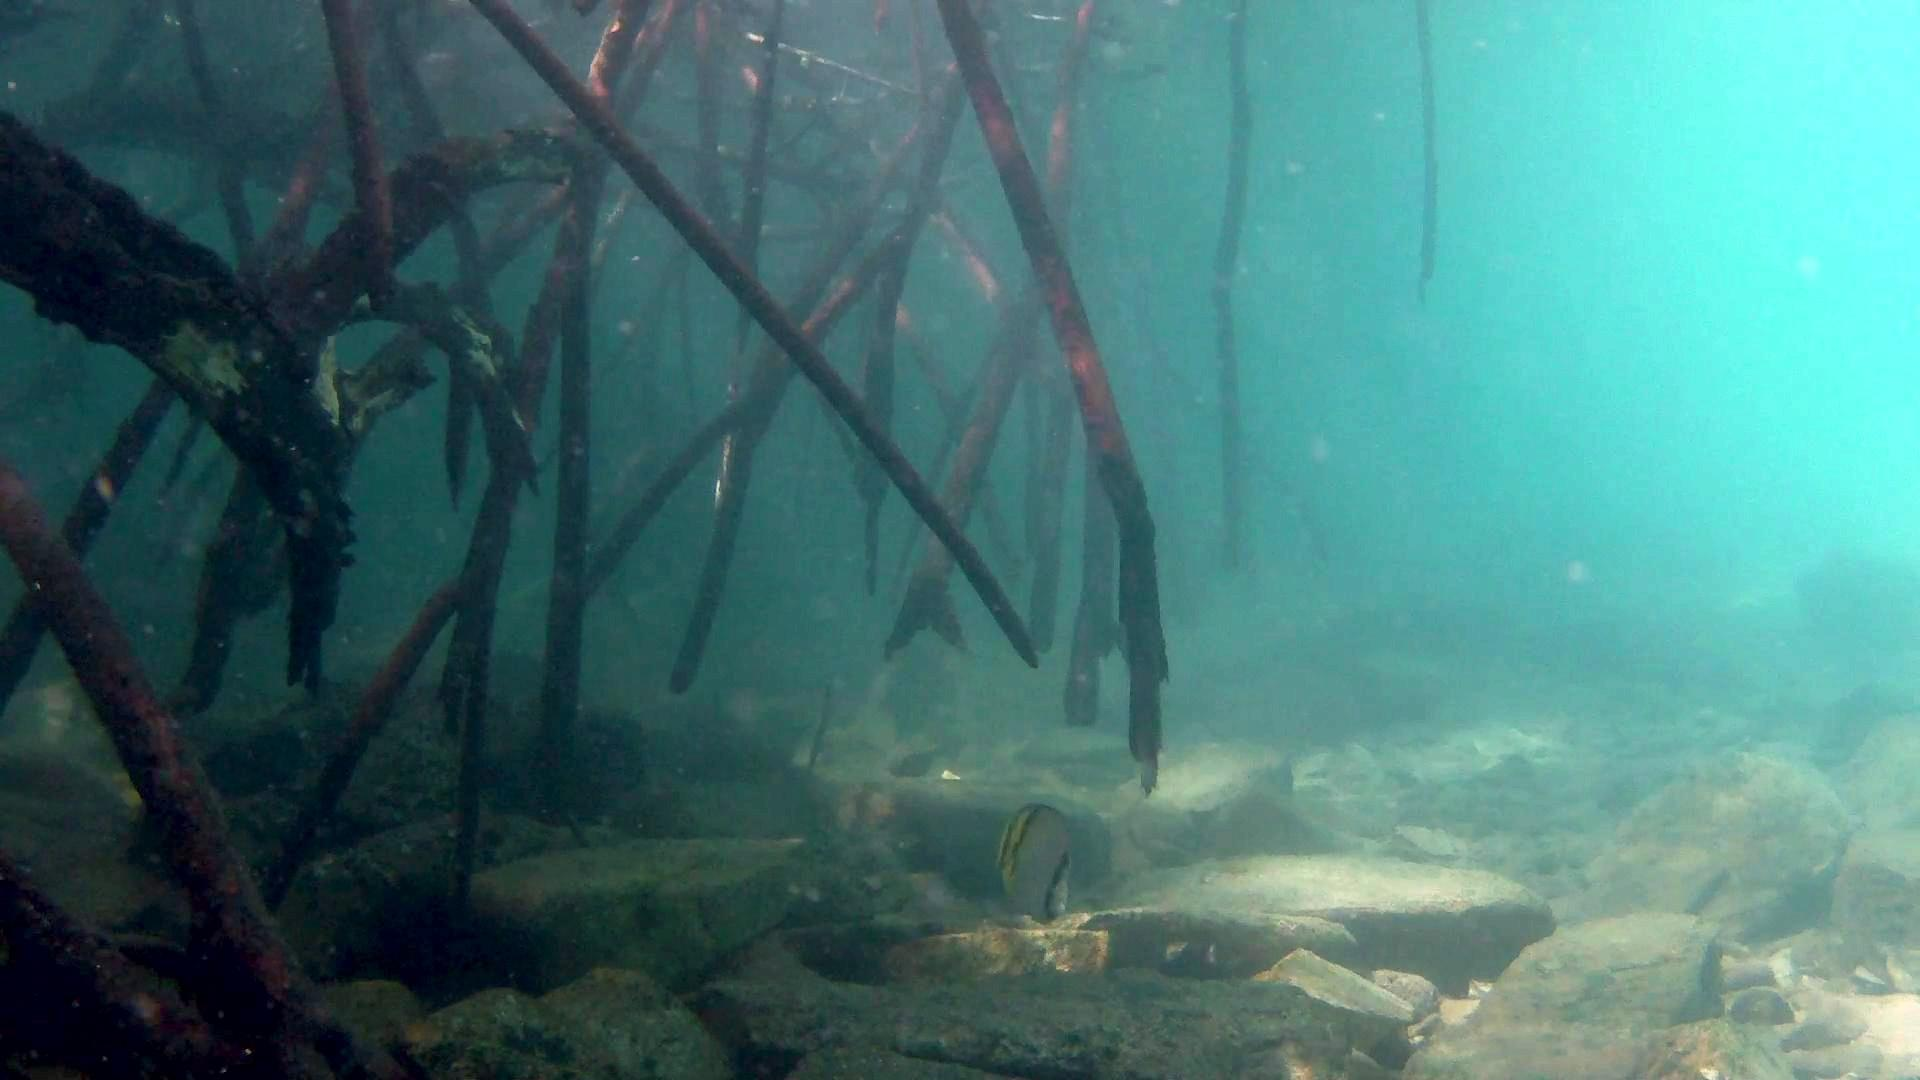chaetodon vagabundus: (991, 798, 1075, 929)
